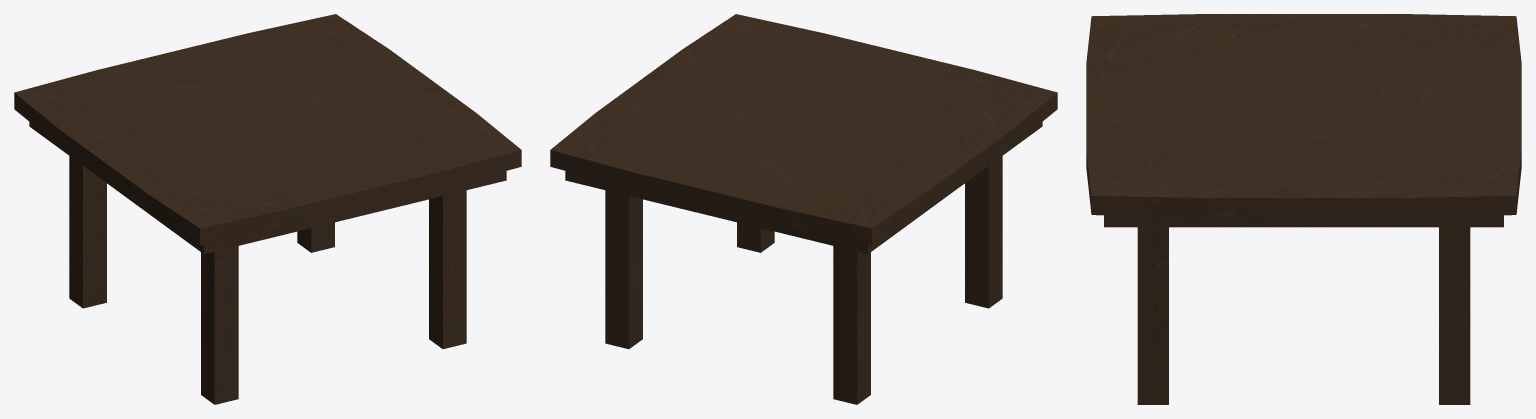
The model's file is small_table.glb.
3 views of the same model, side by side, from view 1: azimuth 30°, elevation 25°; view 2: azimuth 150°, elevation 25°; view 3: azimuth 270°, elevation 25° (orthographic). The views are drawn at different scales.
Parts seen in each view (by area): view 1: SmallTable; view 2: SmallTable; view 3: SmallTable.
Part boxes in pixels (x1,y1,x2,y2): SmallTable: (14, 14, 521, 404); SmallTable: (550, 14, 1057, 404); SmallTable: (1086, 14, 1521, 404).
Bounding box in the file's own units: 0.8078 × 0.4681 × 0.8078.
1 material, 1 textured.
